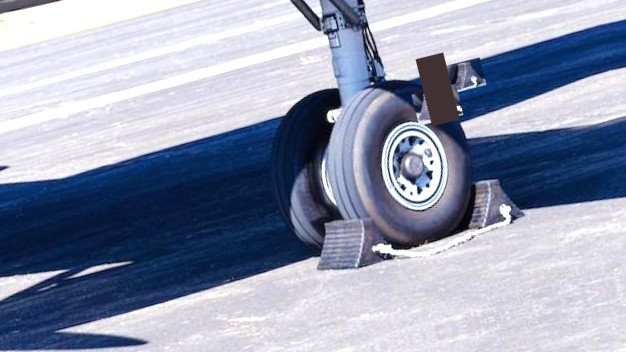chock: (304, 205, 397, 281), (443, 171, 529, 240), (411, 84, 463, 126), (440, 57, 486, 95)
wheel: (316, 68, 487, 260), (249, 84, 376, 260)
